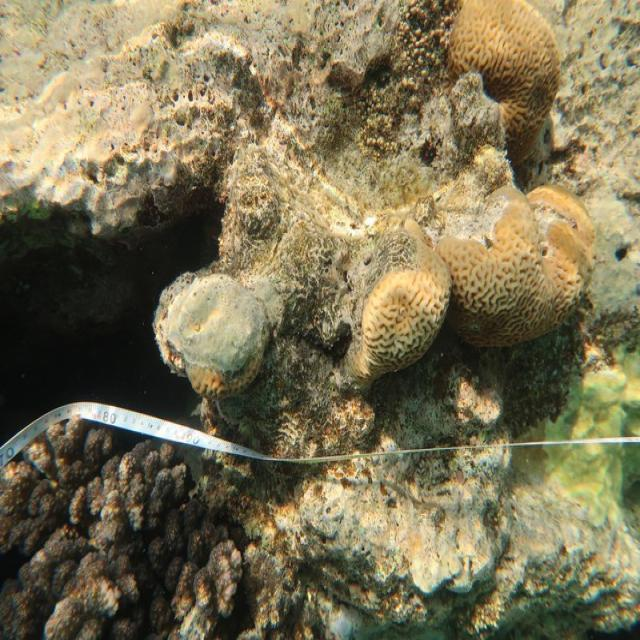Healthy Coral: (447, 179, 598, 329), (337, 228, 452, 405), (442, 0, 574, 145)
